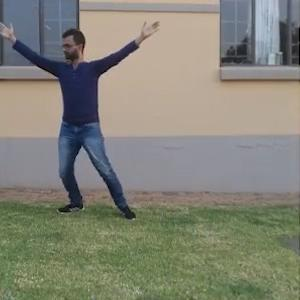takeoff: (0, 20, 156, 209)
